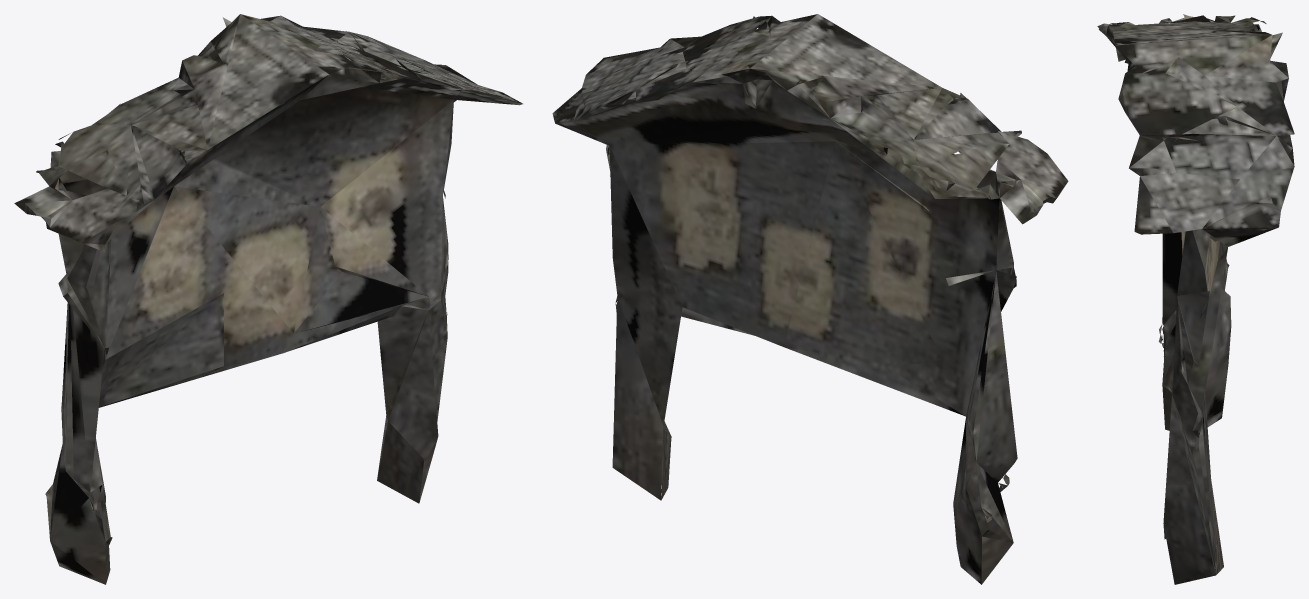
File: contract-board-lod1.glb
3 renders of one model, left to right at view 1: azimuth 30°, elevation 25°; view 2: azimuth 150°, elevation 25°; view 3: azimuth 270°, elevation 25°, orthographic.
Visible parts, largest first — view 1: contract-board-lod1; view 2: contract-board-lod1; view 3: contract-board-lod1.
Boxes of the visible parts, x1,y1,x2,y2 form: contract-board-lod1: (14, 14, 522, 584); contract-board-lod1: (552, 14, 1068, 584); contract-board-lod1: (1097, 14, 1294, 584).
Size of the model in its own units: 2.28 by 2.28 by 0.8379.
Materials: 1 (1 with a texture image).
